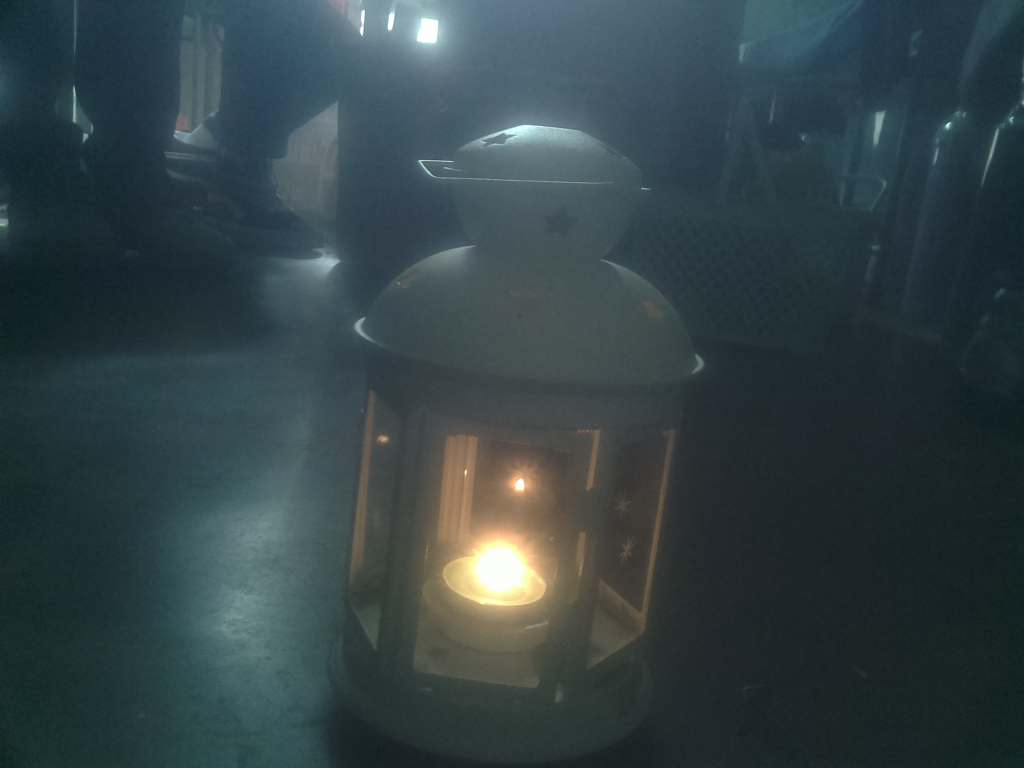fire: (427, 525, 561, 640)
